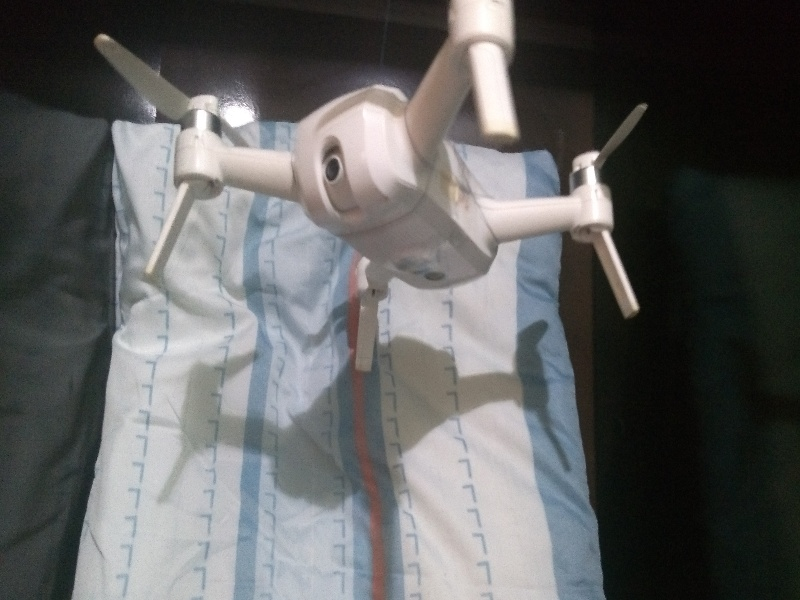drone: (87, 2, 662, 354)
